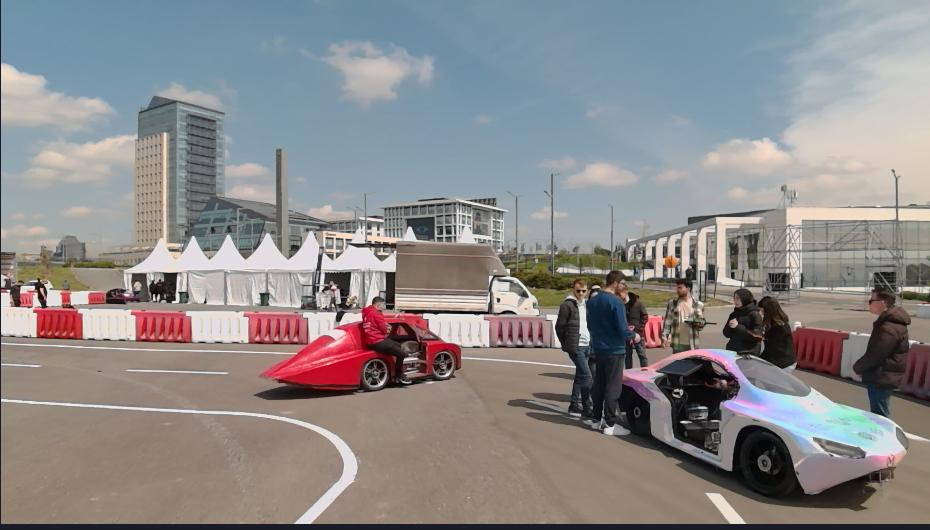nesne: (1, 335, 930, 526), (0, 338, 744, 523), (0, 396, 362, 525), (619, 348, 906, 496), (706, 429, 928, 528), (261, 291, 461, 390), (348, 241, 538, 314), (0, 305, 360, 343), (587, 267, 641, 432), (854, 284, 909, 414), (383, 309, 556, 346), (552, 277, 592, 427), (787, 321, 872, 384), (361, 292, 412, 384), (657, 277, 717, 355), (0, 340, 292, 353), (720, 286, 764, 357), (788, 323, 843, 378), (758, 295, 796, 374), (299, 244, 341, 312), (618, 284, 648, 370), (487, 313, 554, 347), (894, 340, 928, 404), (426, 314, 490, 346), (190, 311, 248, 343), (248, 312, 306, 344), (307, 311, 363, 344), (134, 310, 192, 340), (81, 309, 135, 341), (837, 332, 869, 382), (705, 490, 746, 529), (460, 354, 573, 366), (37, 309, 81, 338), (0, 306, 38, 337), (124, 367, 229, 374), (383, 312, 427, 328), (32, 277, 51, 308), (106, 287, 137, 303), (647, 315, 663, 345), (8, 278, 24, 304), (0, 359, 43, 368), (154, 276, 164, 303), (48, 290, 63, 307), (71, 292, 88, 306), (148, 277, 158, 300), (88, 291, 105, 304), (131, 278, 142, 297), (21, 291, 32, 308), (61, 291, 71, 307), (904, 430, 926, 437), (175, 291, 188, 302), (258, 291, 268, 305)
